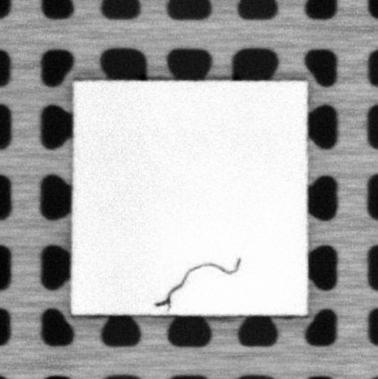DIE_INK: (153, 256, 241, 309)
